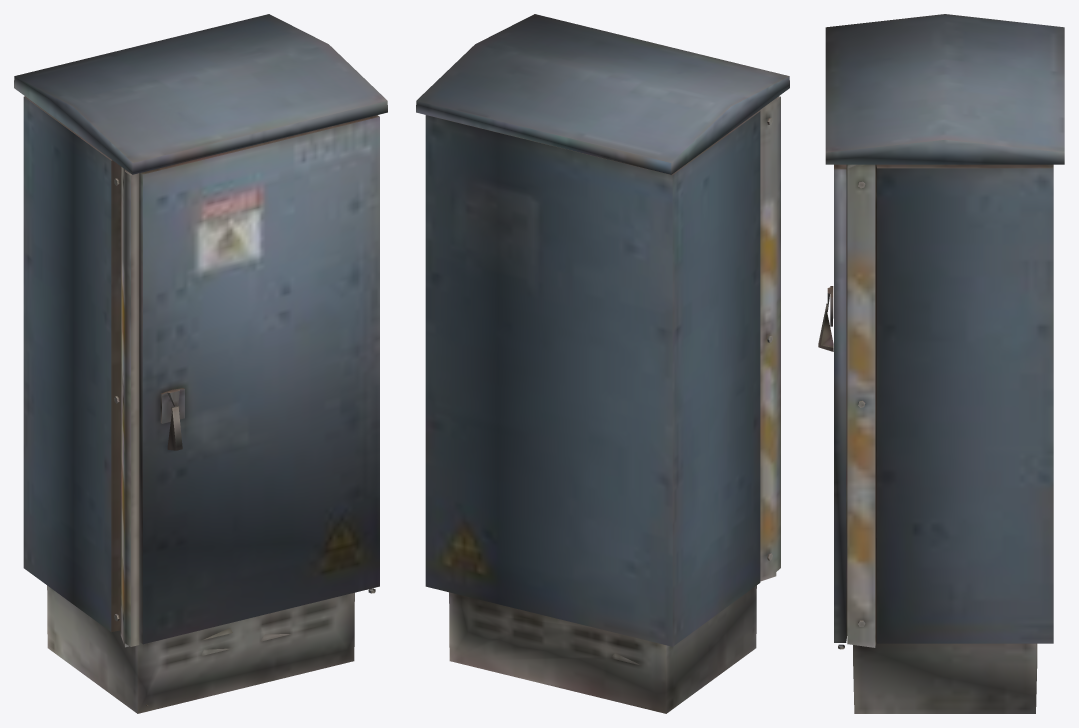
3 views of the same model, side by side, from view 1: azimuth 30°, elevation 25°; view 2: azimuth 150°, elevation 25°; view 3: azimuth 270°, elevation 25° (orthographic).
Visible parts, largest first — view 1: utility_box_01_box; view 2: utility_box_01_box; view 3: utility_box_01_box.
Boxes of the visible parts, x1,y1,x2,y2 form: utility_box_01_box: (14, 14, 387, 713); utility_box_01_box: (416, 14, 789, 713); utility_box_01_box: (818, 14, 1064, 713).
Bounding box in the file's own units: 0.5164 × 1.12 × 0.4277.
Materials: 1 (1 with a texture image).
